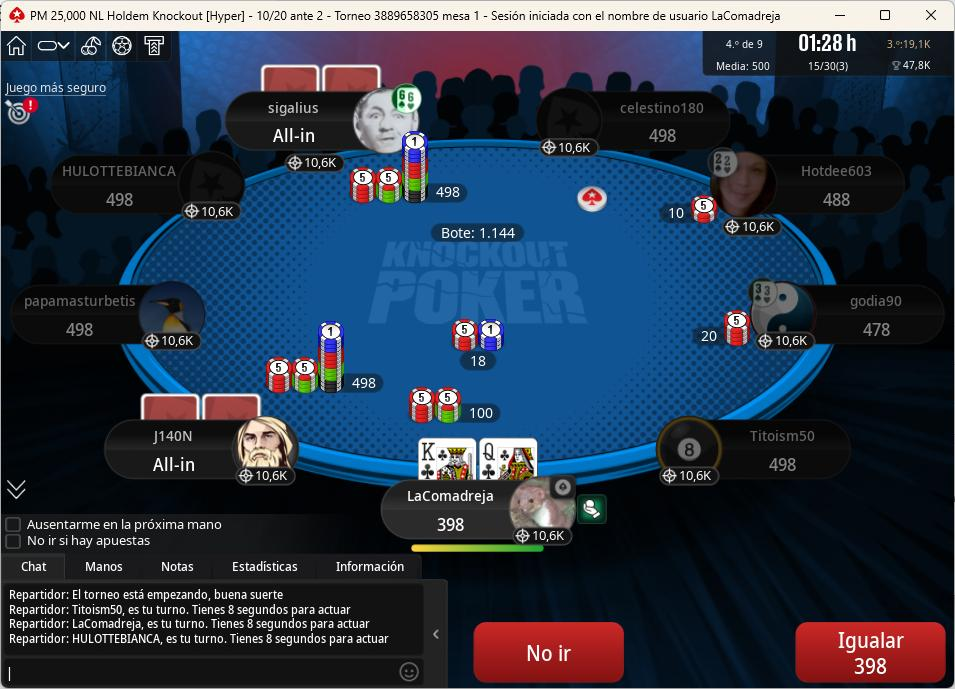ButtonCall: (790, 613, 951, 687)
ButtonFold: (469, 620, 631, 686)
Dealer: (573, 185, 608, 213)
HiddenCards: (140, 393, 266, 423), (261, 67, 387, 95)
Player: (101, 419, 303, 488), (749, 282, 951, 350), (225, 90, 424, 158), (12, 284, 210, 351), (656, 421, 857, 487), (710, 150, 908, 216), (50, 152, 246, 215), (542, 93, 731, 158)
PlayerBet: (255, 318, 389, 403), (339, 129, 474, 208), (689, 309, 756, 351), (655, 193, 720, 227)
PlayerChips: (263, 122, 318, 145), (144, 454, 200, 475), (763, 453, 807, 476), (59, 322, 103, 342), (859, 322, 900, 342), (98, 191, 141, 210), (817, 191, 859, 209)
Pot: (427, 222, 527, 244)
PrincipalBet: (402, 385, 510, 430)
PrincipalCards: (412, 436, 544, 484)
PrincipalCards1: (417, 434, 478, 485)
PrincipalCards2: (478, 437, 541, 482)
PrincipalPlayer: (380, 474, 584, 551)
PrincipalPlayerChips: (430, 517, 473, 537)
SmallBigBlind: (247, 3, 334, 28)
TablePot: (441, 317, 535, 377)
